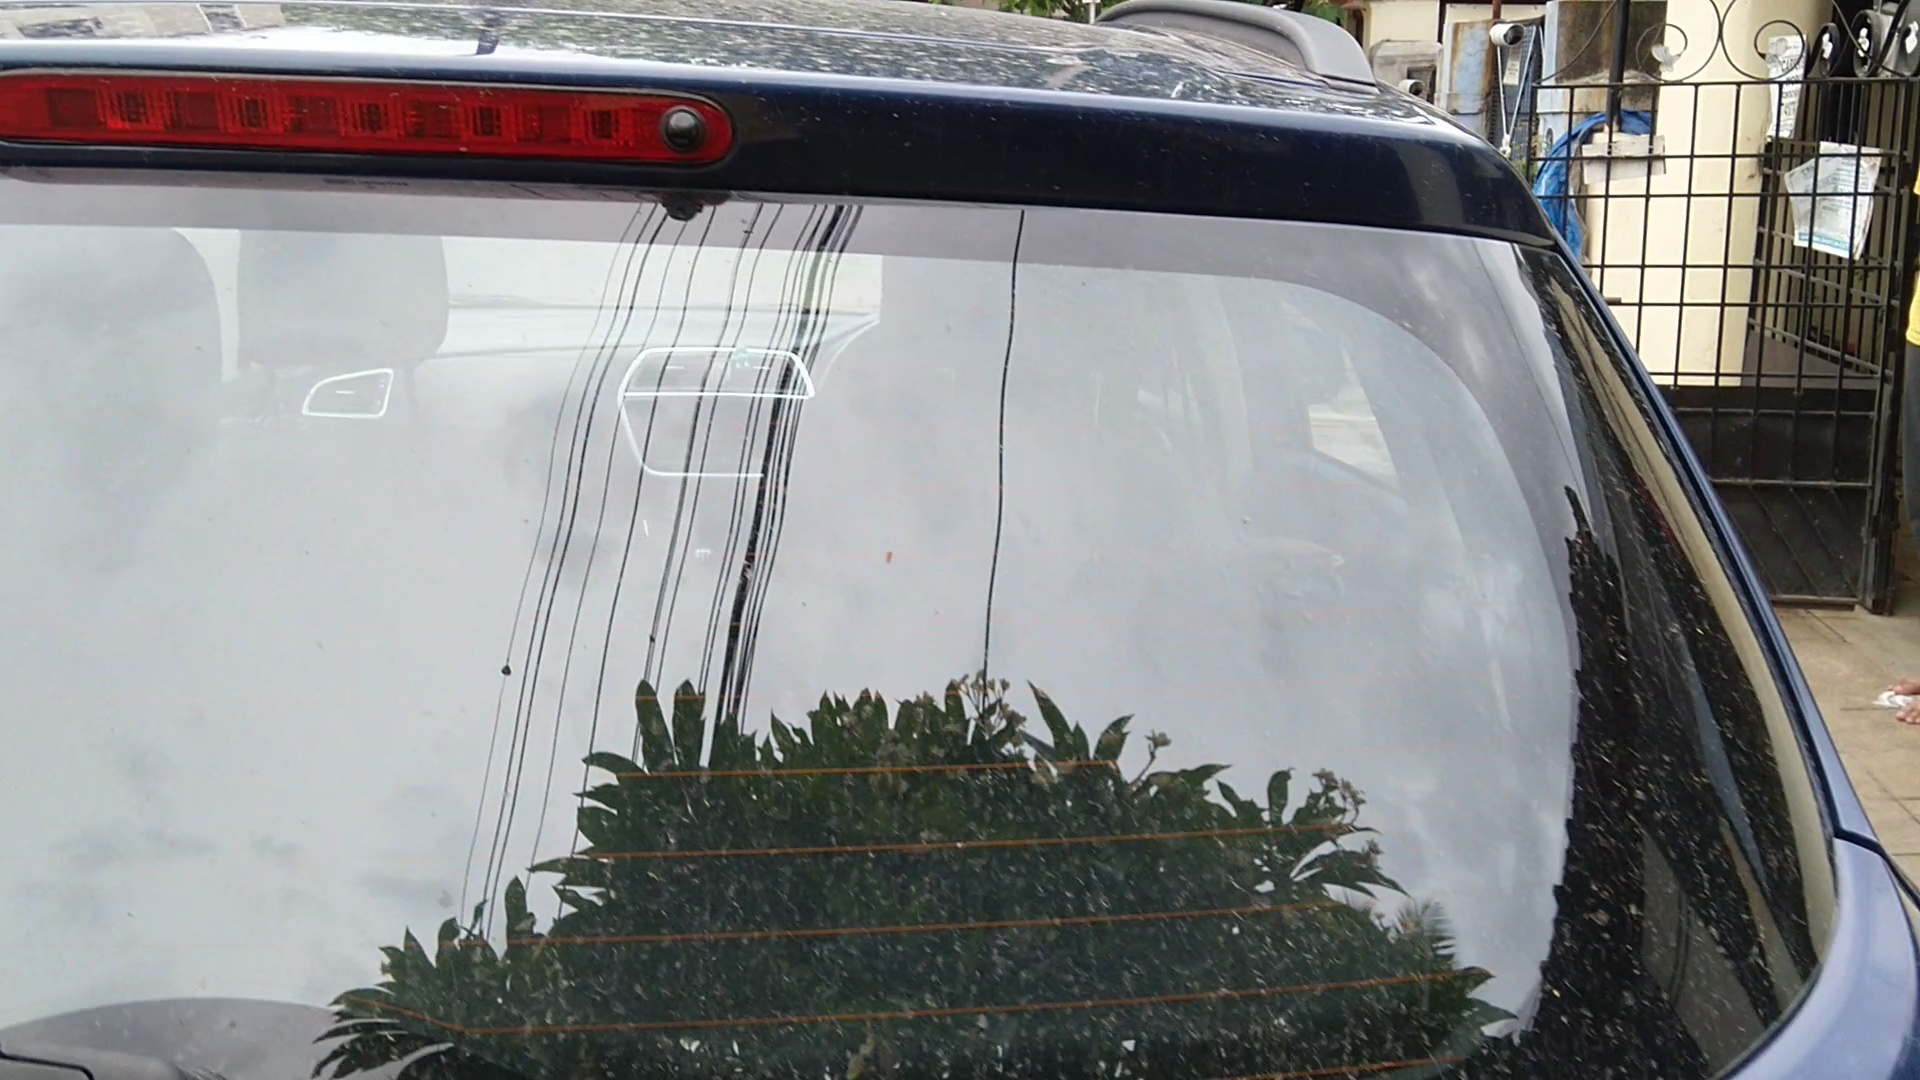rear_camera: (647, 90, 727, 166)
